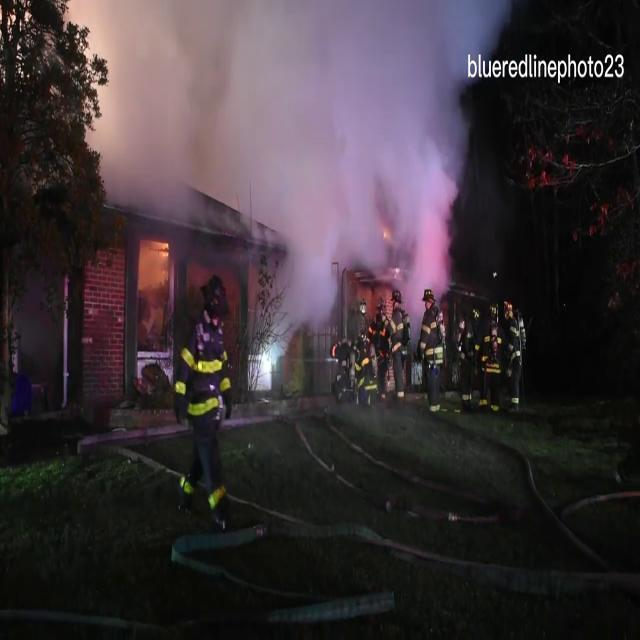Smoke: (93, 0, 481, 286)
